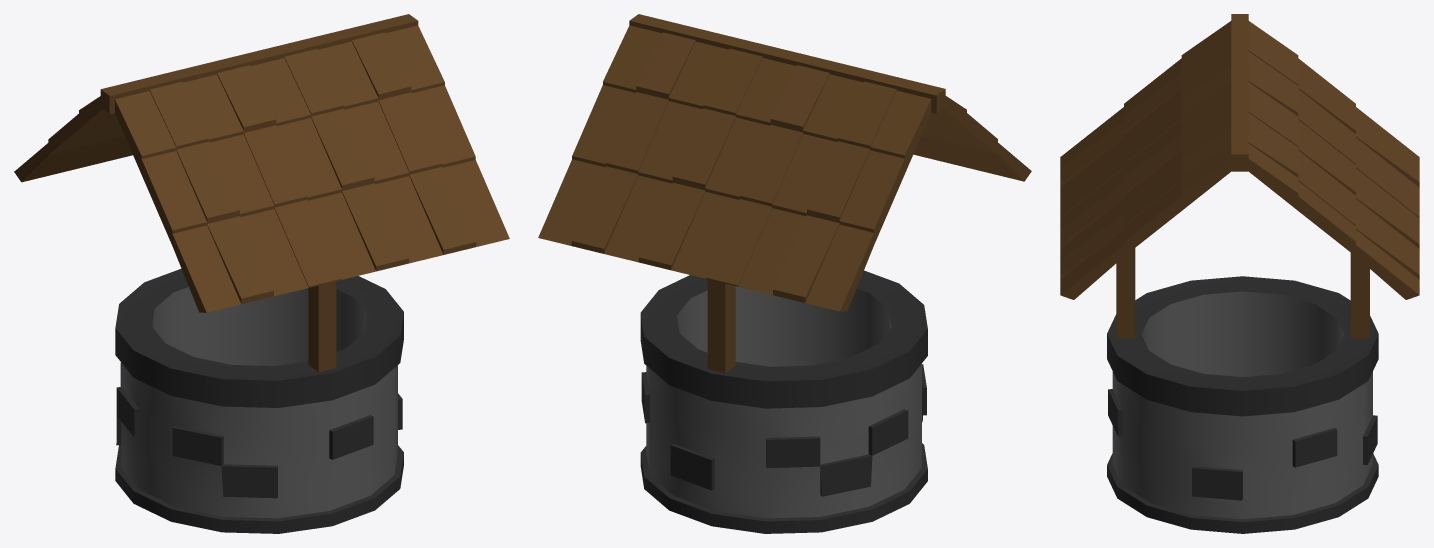
File: well_001.fbx
The picture shows the model from 3 angles, left to right: view 1: azimuth 30°, elevation 25°; view 2: azimuth 150°, elevation 25°; view 3: azimuth 270°, elevation 25°; orthographic projection. The views are drawn at different scales.
Visible parts, largest first — view 1: well_001.001; view 2: well_001.001; view 3: well_001.001.
Part boxes in pixels (box(x1,y1,x2,y2)): well_001.001: box(14, 14, 509, 533); well_001.001: box(538, 14, 1031, 533); well_001.001: box(1060, 14, 1419, 533).
Bounding box in the file's own units: 1.14 × 1.49 × 1.24.
